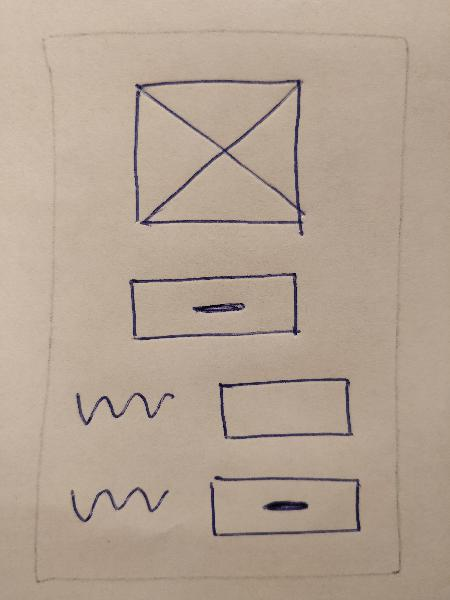button: (120, 265, 302, 352), (203, 470, 370, 545)
image: (127, 72, 310, 240)
text: (63, 475, 174, 533), (65, 381, 176, 436)
text_input: (213, 372, 365, 452)
